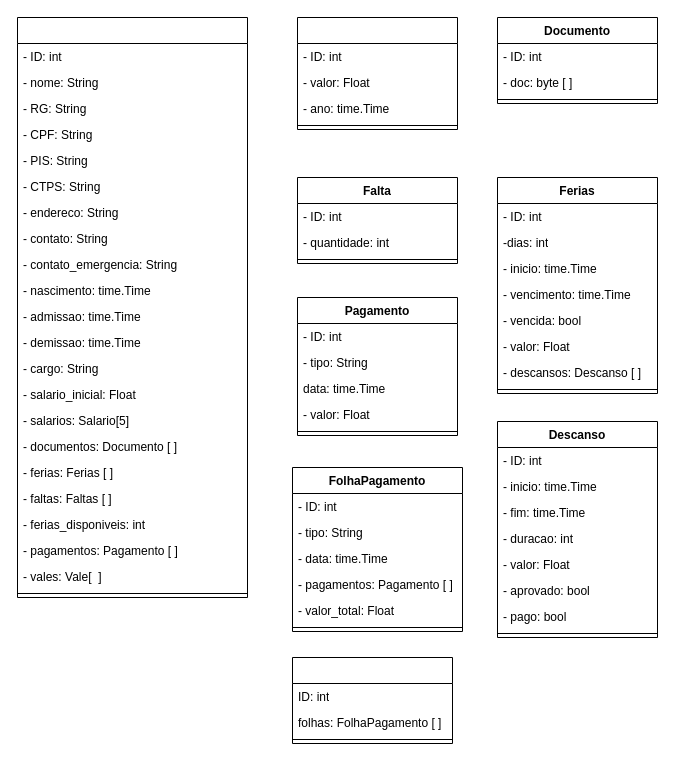
This 675x761 diagram has some shape labels left out. Here are the shapes that lost their labels. From the top down, the box of each, then its label:
(296, 16, 458, 130): Salario
(16, 16, 248, 598): Funcionario
(292, 656, 452, 744): HistoricoPagamentos
